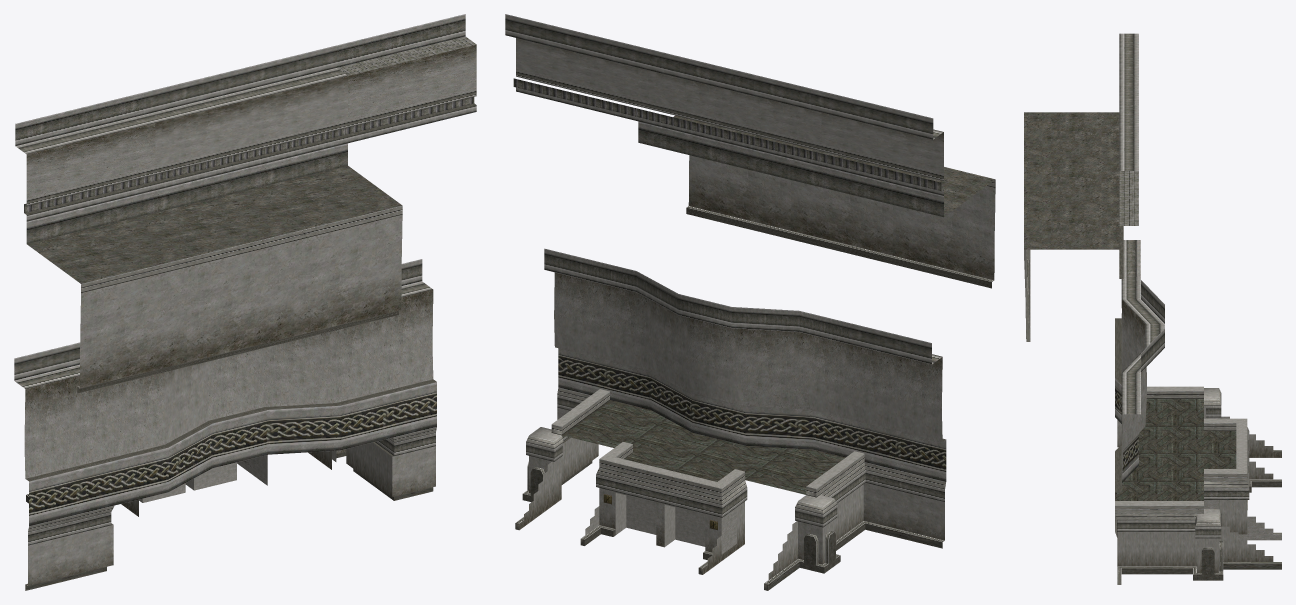
Rendered from DWARF_PALACE_MAINHALL_WALL01C.fbx.
3 views of the same model, side by side, from view 1: azimuth 30°, elevation 25°; view 2: azimuth 150°, elevation 25°; view 3: azimuth 270°, elevation 25° (orthographic). The views are drawn at different scales.
Parts seen in each view (by area): view 1: DWARF_PALACE_MAINHALL_WALL01C; view 2: DWARF_PALACE_MAINHALL_WALL01C; view 3: DWARF_PALACE_MAINHALL_WALL01C.
Boxes of the visible parts, box(x1,y1,x2,y2) form: DWARF_PALACE_MAINHALL_WALL01C: box(14, 14, 476, 590); DWARF_PALACE_MAINHALL_WALL01C: box(505, 14, 995, 590); DWARF_PALACE_MAINHALL_WALL01C: box(1024, 33, 1281, 584).
Size of the model in its own units: 209996 by 205000 by 119001.
14 materials, 14 textured.
